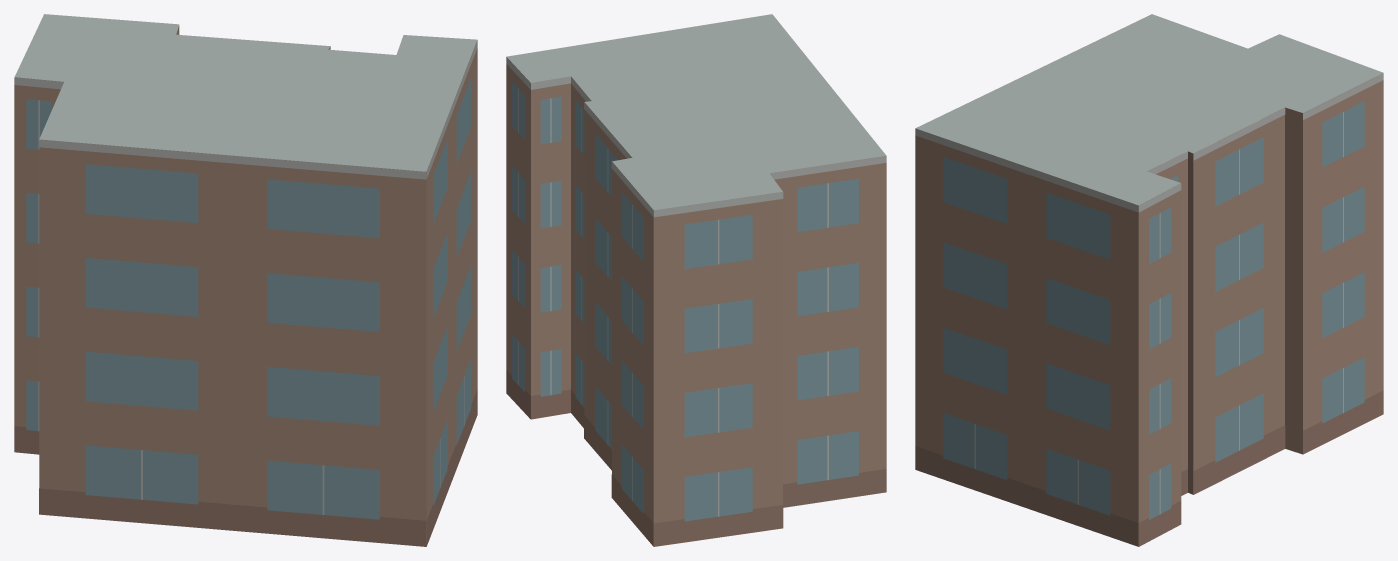
Rendered from survey-upis-32675046.glb.
3 renders of one model, left to right at view 1: azimuth 30°, elevation 25°; view 2: azimuth 150°, elevation 25°; view 3: azimuth 270°, elevation 25°, orthographic. The views are drawn at different scales.
Visible parts, largest first — view 1: survey-upis-32675046.tmp; view 2: survey-upis-32675046.tmp; view 3: survey-upis-32675046.tmp.
Boxes of the visible parts, <box> form: survey-upis-32675046.tmp: <box>14,14,477,546</box>; survey-upis-32675046.tmp: <box>506,14,886,546</box>; survey-upis-32675046.tmp: <box>915,14,1383,546</box>.
Bounding box in the file's own units: 14.08 × 11.7 × 14.56.
